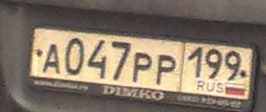character: (111, 39, 133, 84), (88, 37, 109, 82), (65, 34, 85, 76), (156, 53, 178, 88), (41, 43, 61, 76), (206, 44, 223, 80), (134, 52, 151, 87), (188, 45, 205, 80), (225, 47, 241, 83)
